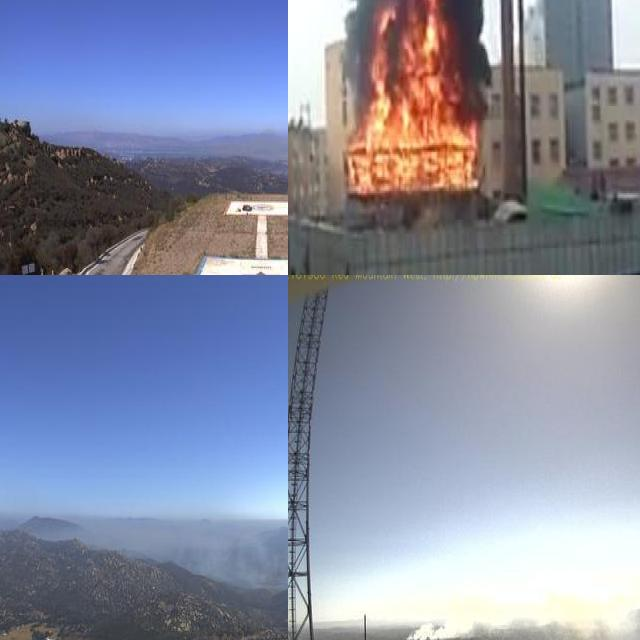fire: (342, 0, 486, 196)
smoke: (111, 516, 288, 594), (403, 590, 640, 640)
